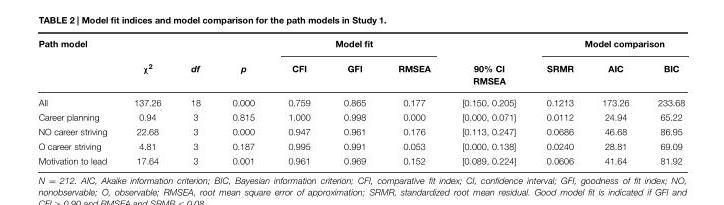table: (37, 37, 684, 165)
table column: (445, 37, 530, 165), (37, 37, 119, 165), (381, 37, 445, 165), (530, 37, 587, 165), (119, 37, 175, 165), (270, 37, 326, 165), (215, 37, 270, 165), (326, 37, 381, 165), (587, 37, 642, 165), (642, 37, 684, 165), (175, 37, 215, 165)
table column header: (37, 37, 684, 90)
table row: (37, 54, 684, 90), (37, 90, 684, 109), (37, 37, 684, 54), (37, 123, 684, 138), (37, 109, 684, 123), (37, 138, 684, 152), (37, 152, 684, 165)
table spanning cell: (445, 37, 530, 90), (37, 37, 119, 90), (270, 37, 445, 54), (119, 37, 175, 90), (215, 37, 270, 90), (530, 37, 684, 54), (175, 37, 215, 90)
